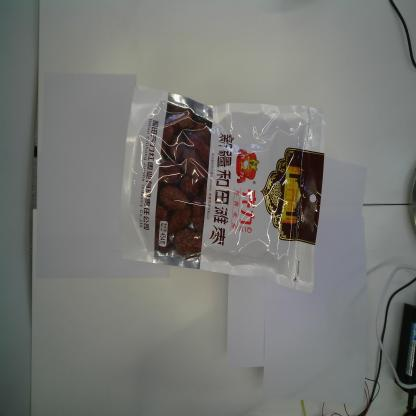Dried Food: (115, 80, 327, 295)
